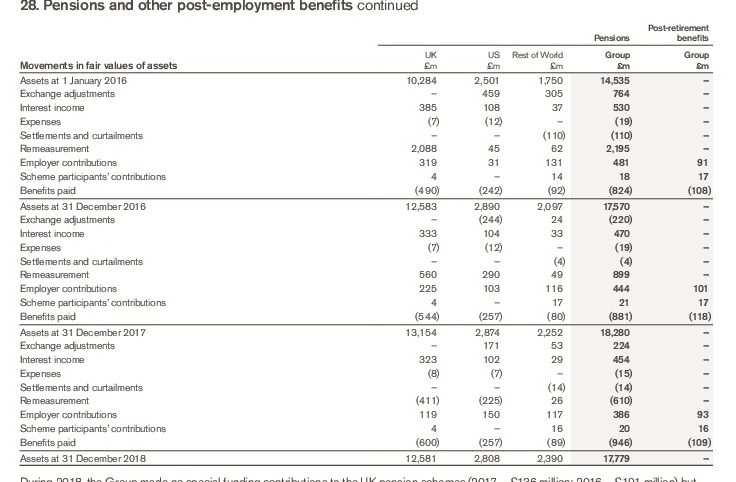table: (0, 0, 736, 482)
